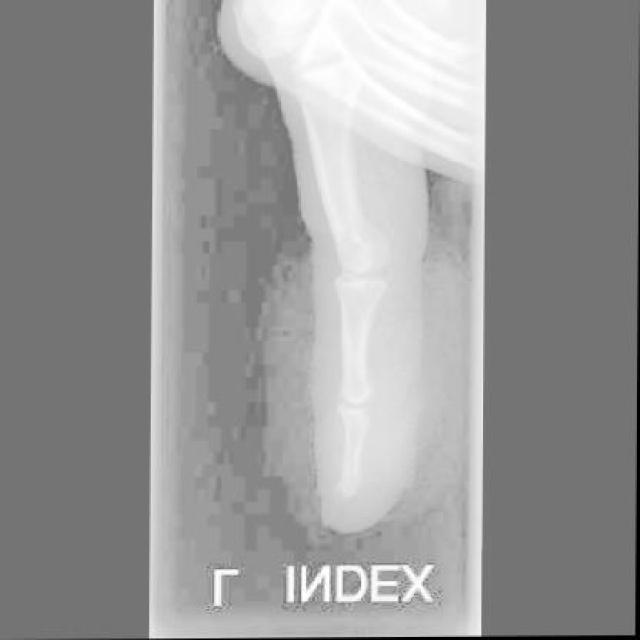Fracture: (334, 469, 362, 503)
